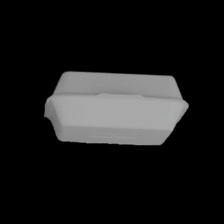foam_box: (33, 66, 194, 153)
